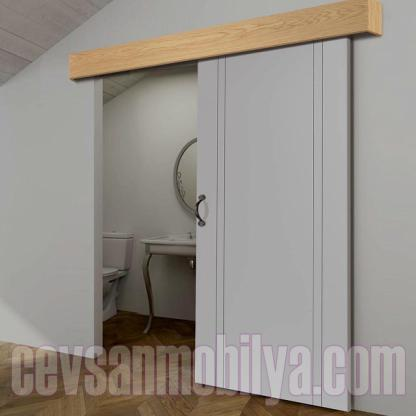door: (194, 38, 348, 393)
